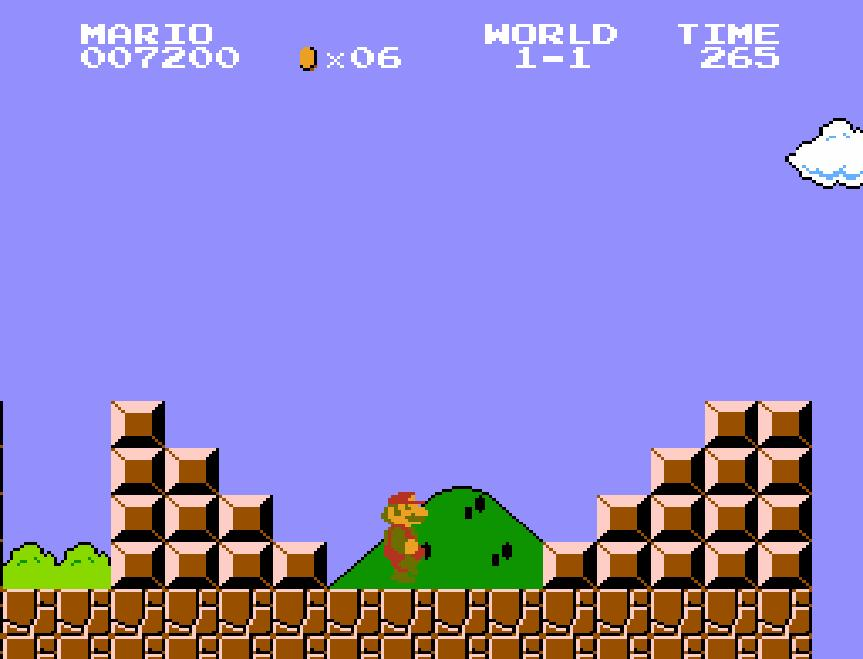big_mario: (376, 487, 434, 586)
